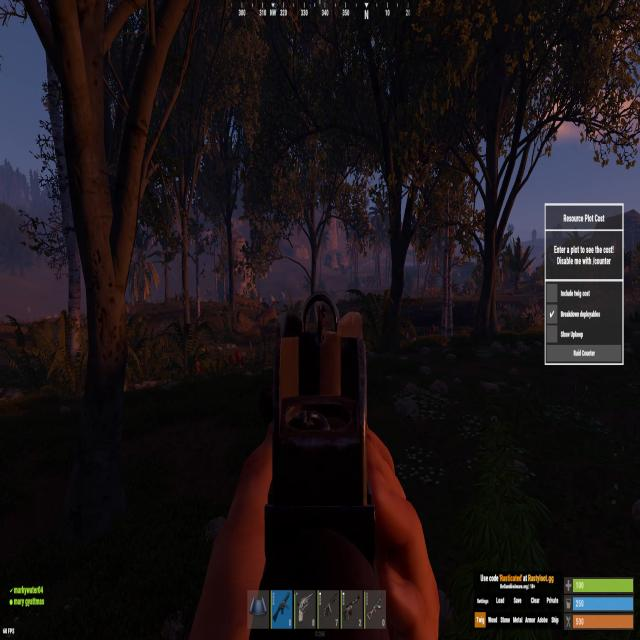Player: (318, 302, 329, 342)
